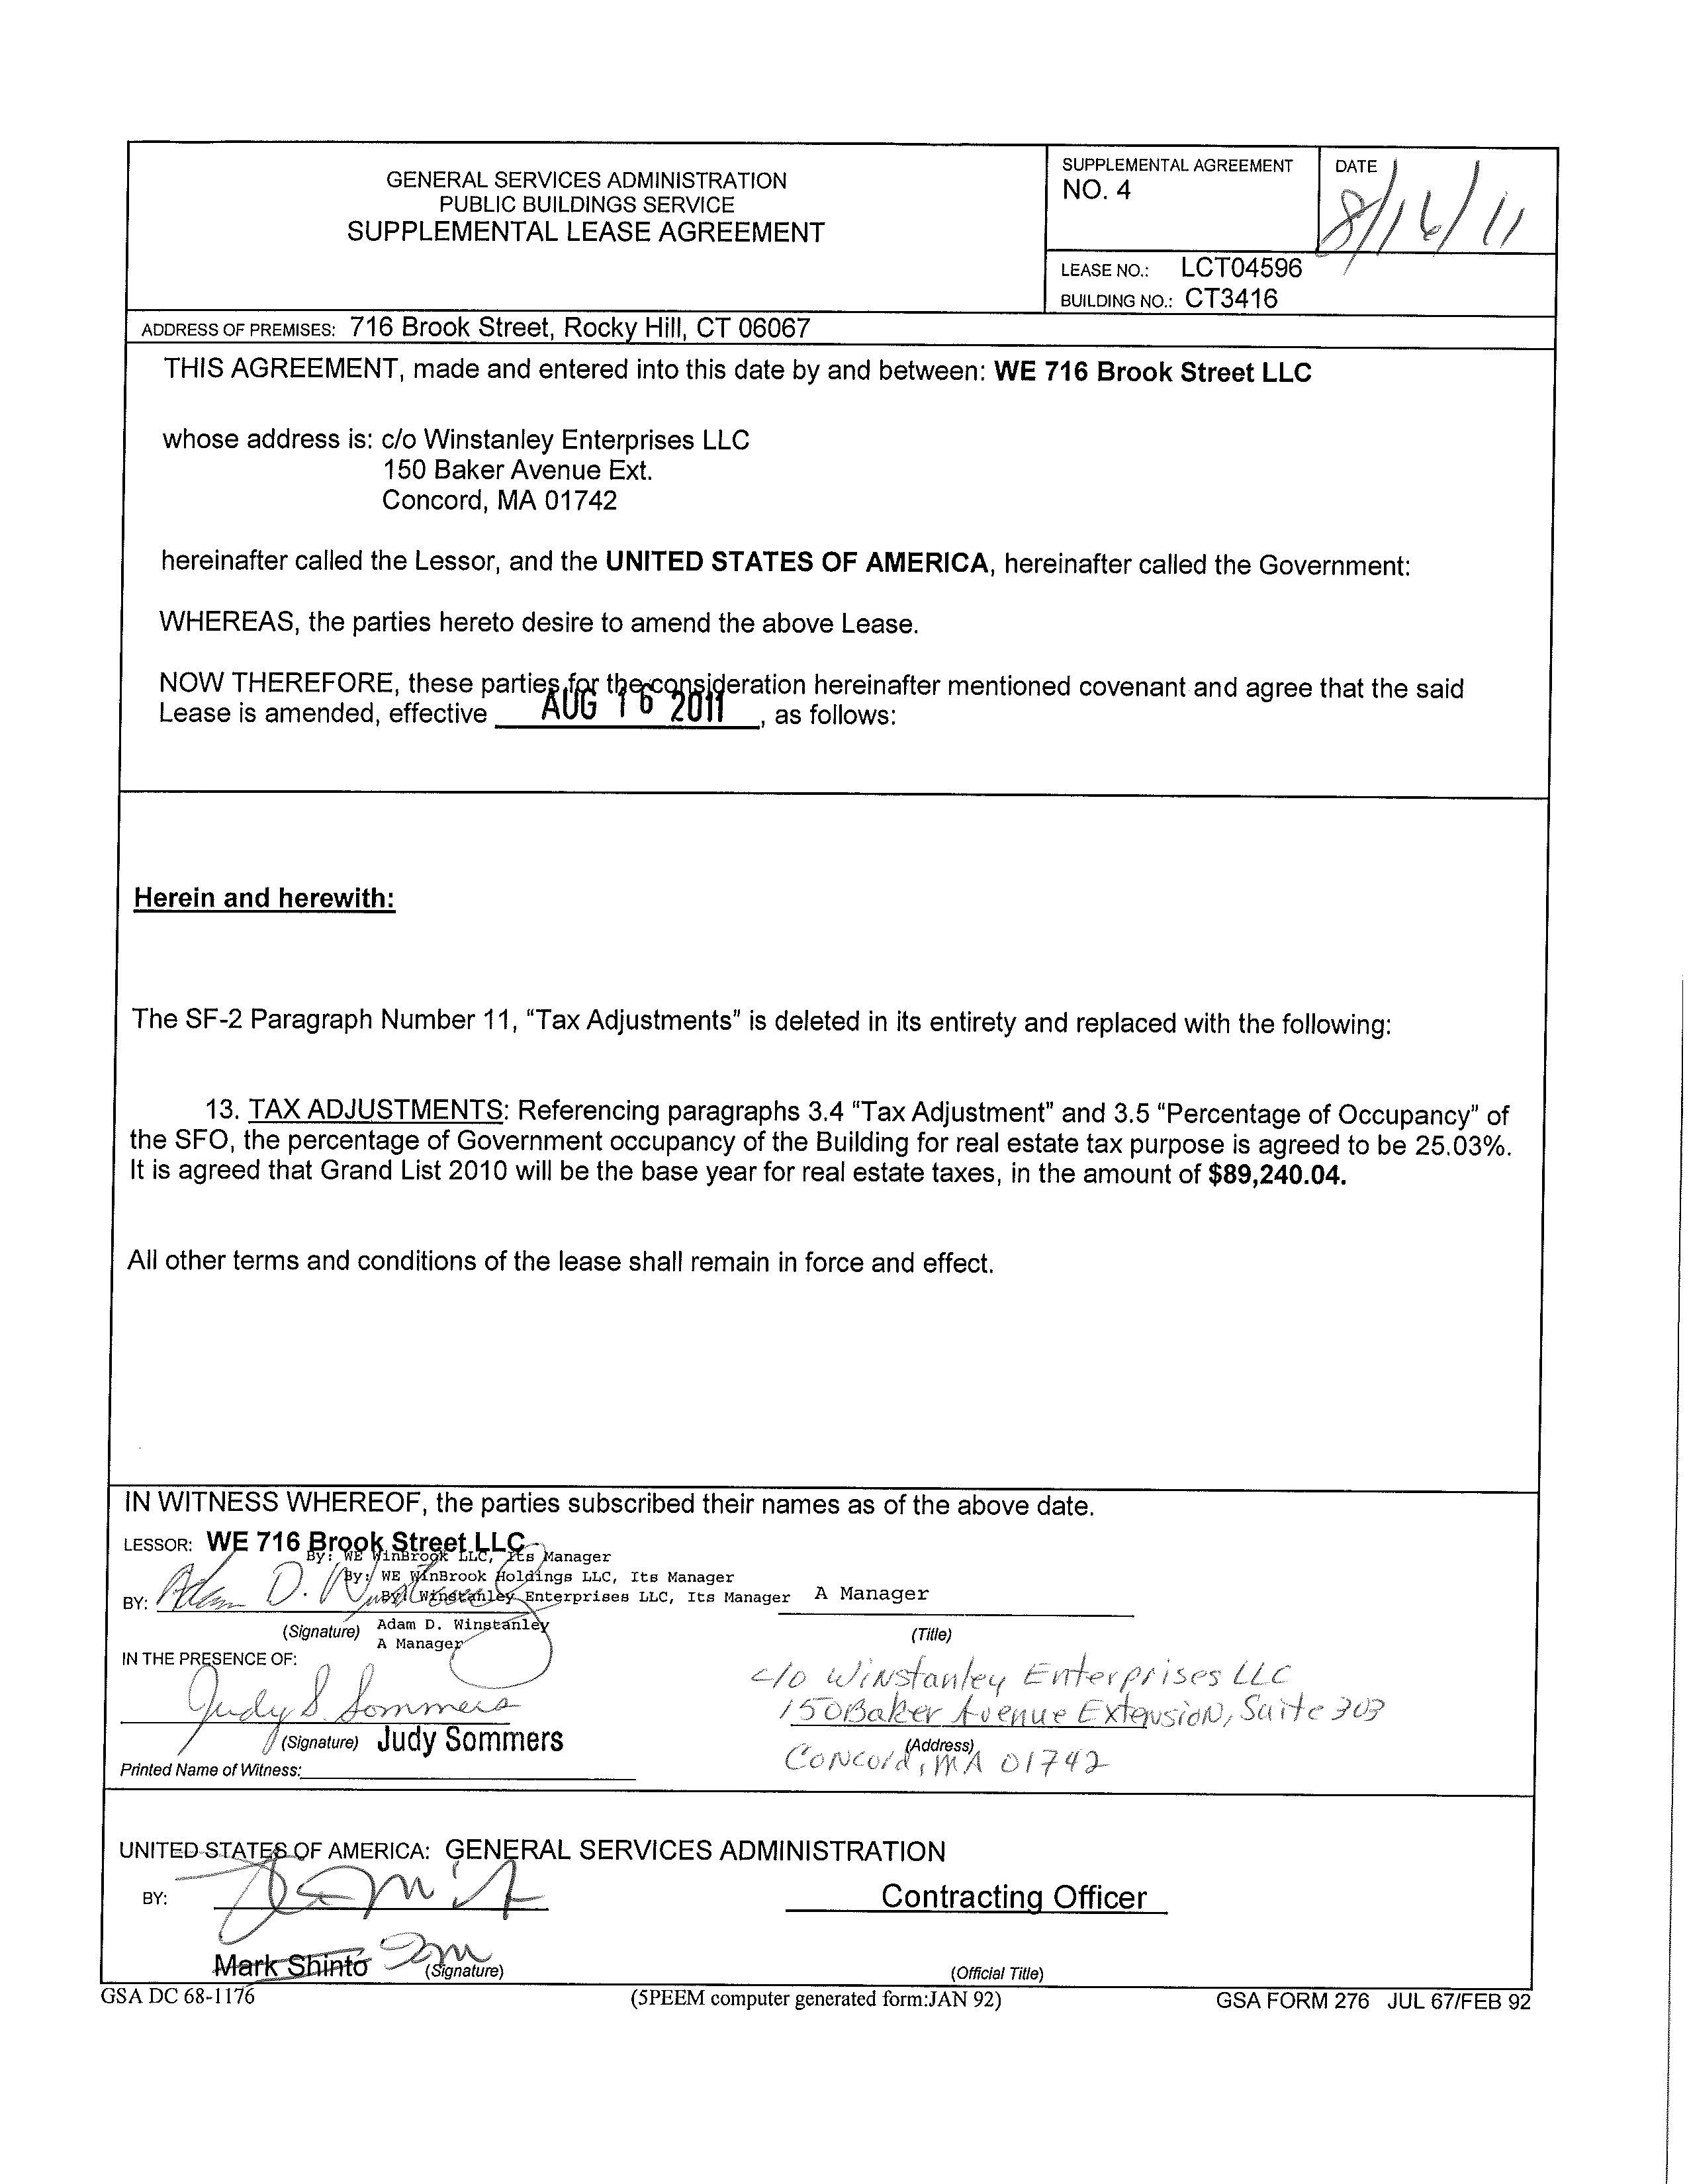handwritten: (748, 1656, 1398, 1725), (168, 1663, 521, 1721), (1331, 181, 1537, 257), (773, 1743, 1106, 1782), (152, 1556, 331, 1611), (461, 1610, 567, 1684), (774, 1750, 1106, 1769)
